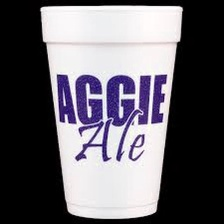paper_cup: (34, 0, 187, 224)
